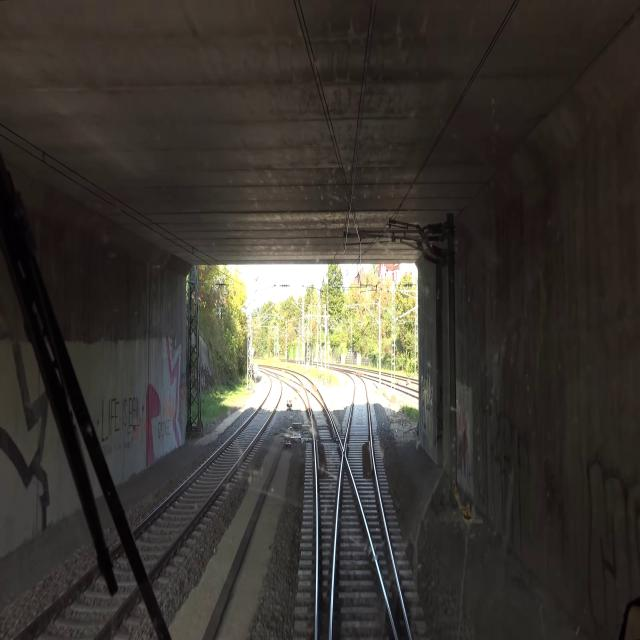rail-track: (136, 379, 279, 567), (346, 377, 407, 639), (333, 463, 393, 639), (311, 397, 340, 639)
